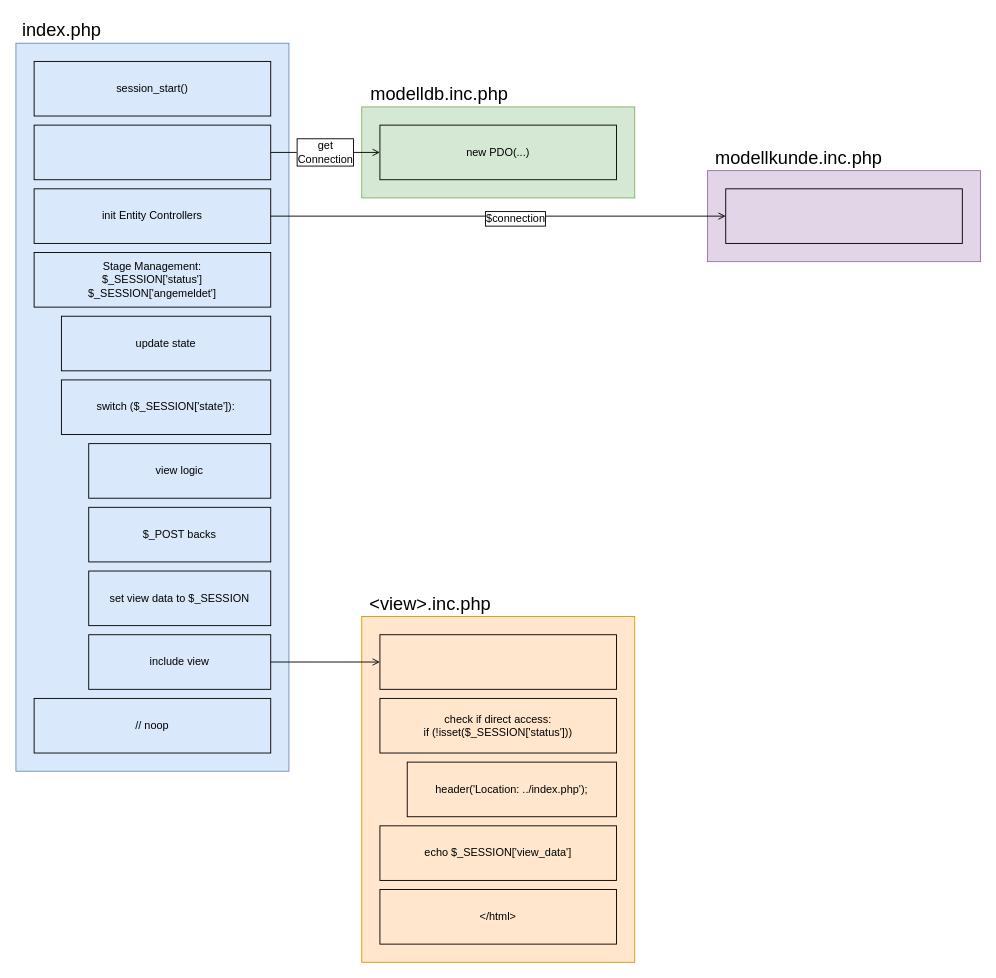
Image size: 996x978. Some labels were removed from this diagram. Each missing label, with the box of its shape:
// First Content Output: <html>: (379, 634, 617, 689)
init: (725, 188, 962, 243)
init Database: (33, 124, 271, 180)
